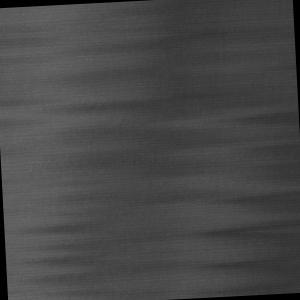Wrinkle: (18, 1, 210, 300), (183, 94, 300, 298)
